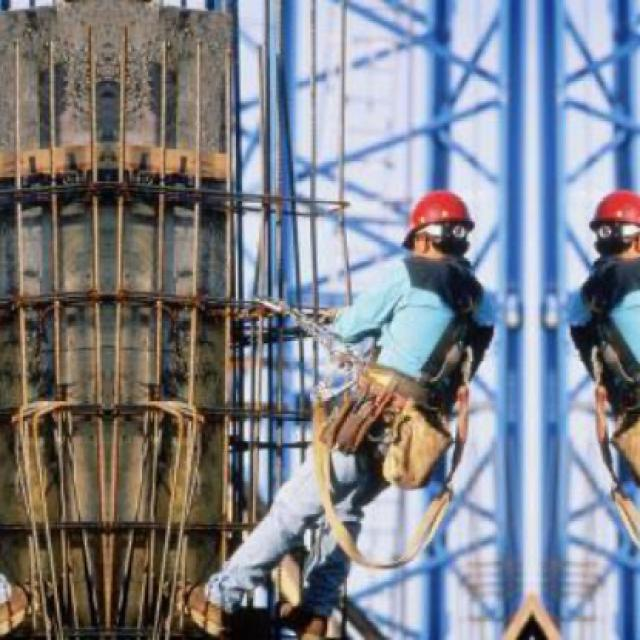con casco: (364, 182, 499, 302)
